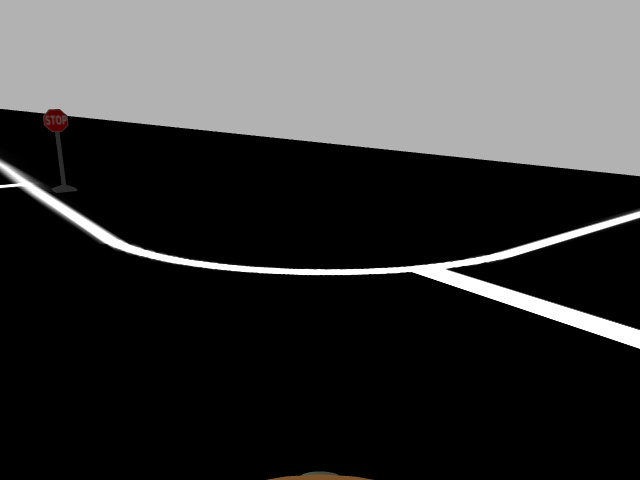stop: (40, 108, 71, 133)
